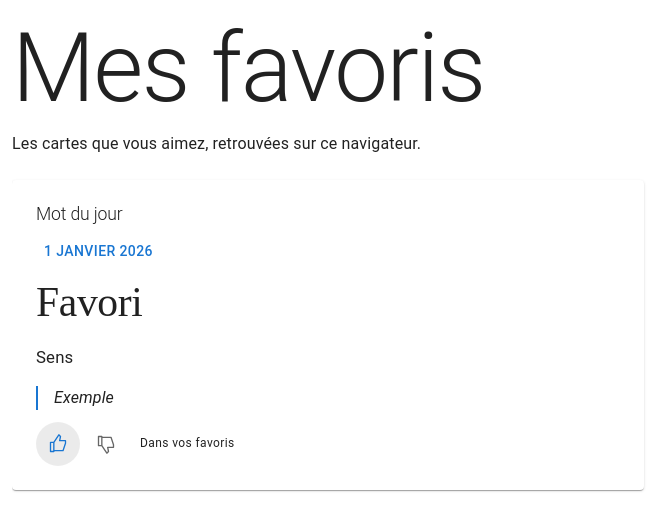
Scenario: affiche les cartes aimées et les retire de la liste après le retrait du vote
The width and height of the screenshot is (662, 509).
Expected: the heading "Favori" is shown, x1=36 y1=279 x2=142 y2=325
Click the button named "J’aime" at x=58, y=444, box x1=36 y1=422 x2=80 y2=466
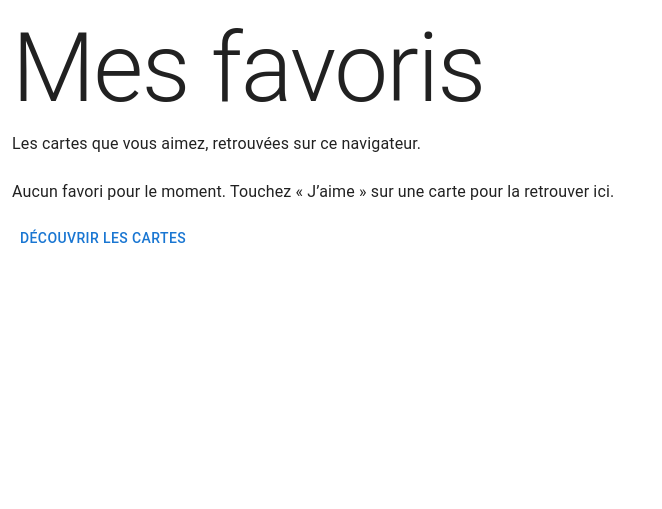
Expected: the link "Découvrir les cartes" has attribute href="/", x1=20 y1=230 x2=186 y2=246
